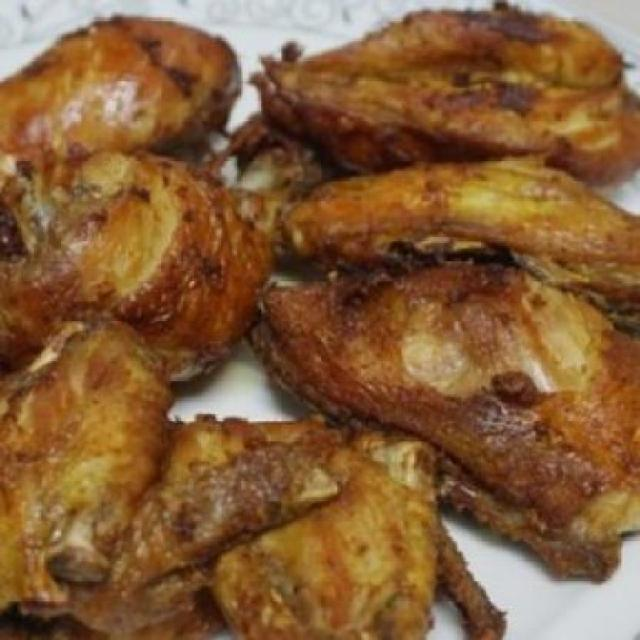Wet Waste: (0, 314, 506, 635), (252, 274, 638, 560), (270, 5, 638, 177), (0, 154, 265, 388), (275, 171, 637, 314), (0, 19, 242, 164)
